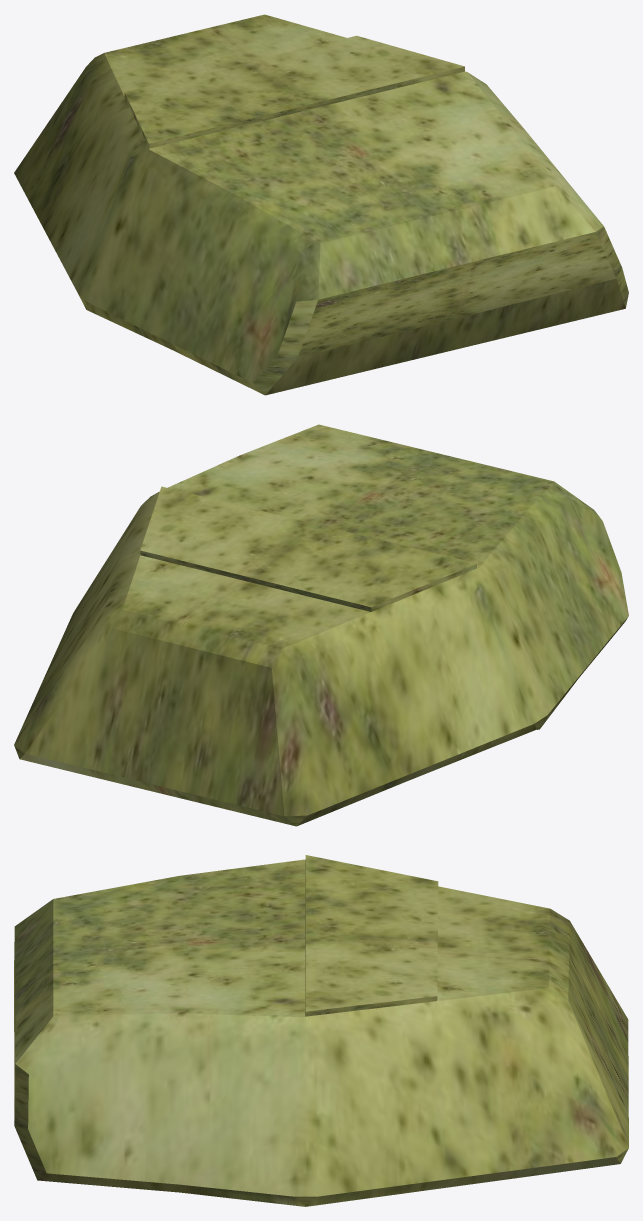
Rendered from Башня.FBX.
The picture shows the model from 3 angles, top to bottom: view 1: azimuth 30°, elevation 25°; view 2: azimuth 150°, elevation 25°; view 3: azimuth 270°, elevation 25°; orthographic projection.
Parts seen in each view (by area): view 1: Башня; view 2: Башня; view 3: Башня.
Boxes of the visible parts, x1,y1,x2,y2 form: Башня: (14,14,628,395); Башня: (14,424,628,826); Башня: (14,855,628,1206).
Bounding box in the file's own units: 2.89 × 0.9283 × 3.26.
